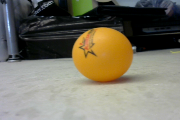PingPongBall: (74, 27, 133, 83)
